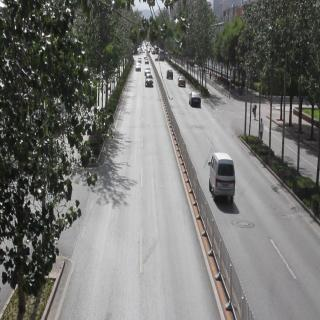Car: (204, 144, 239, 207), (189, 88, 202, 109), (141, 71, 156, 88), (178, 70, 186, 92), (164, 68, 174, 84)
